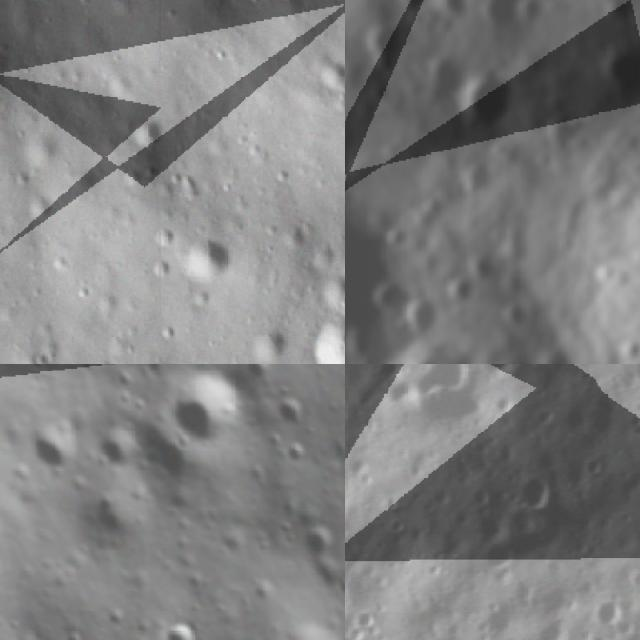crater: (523, 60, 640, 364), (152, 364, 263, 469), (447, 62, 529, 147), (17, 404, 97, 486), (380, 321, 512, 364), (409, 48, 484, 123), (84, 415, 156, 486), (590, 33, 640, 113), (393, 364, 479, 405), (176, 229, 236, 287), (467, 0, 539, 46), (284, 514, 342, 570), (264, 388, 315, 437), (507, 468, 552, 522), (305, 305, 345, 364), (473, 533, 526, 575), (419, 0, 482, 35), (124, 102, 167, 151), (309, 45, 345, 99), (151, 611, 210, 640), (306, 264, 345, 304), (120, 364, 195, 384), (584, 590, 625, 625), (423, 621, 489, 640), (238, 364, 281, 388), (471, 364, 520, 381), (618, 364, 640, 395)
